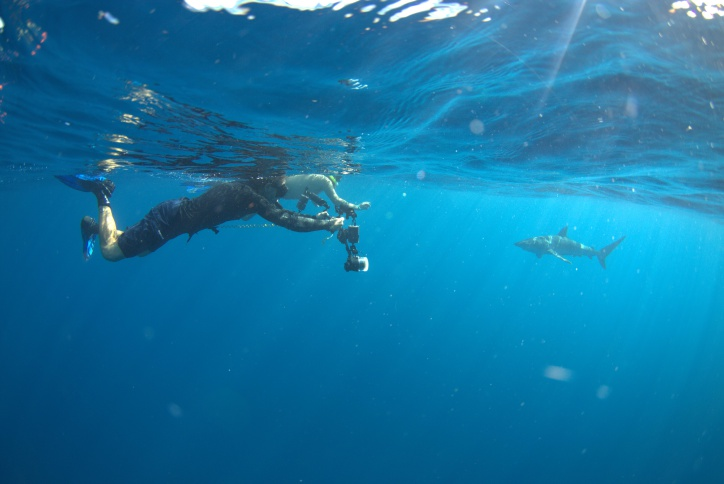Sedoso: (512, 219, 635, 274)
